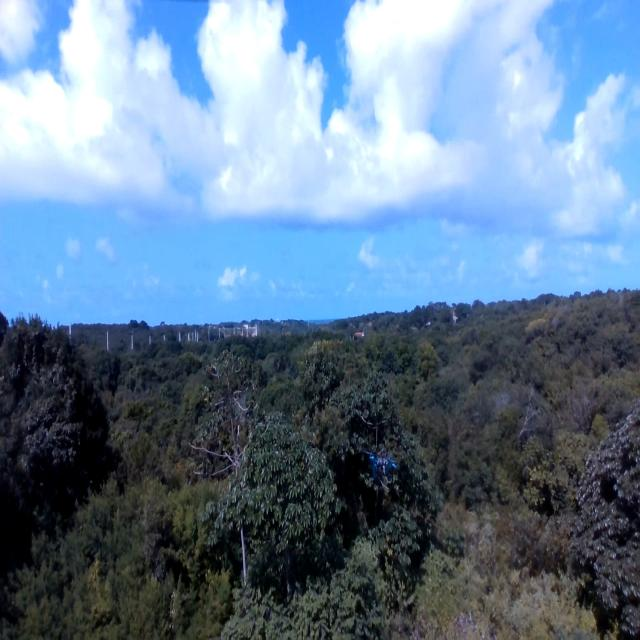-uav-: (359, 444, 403, 501)
